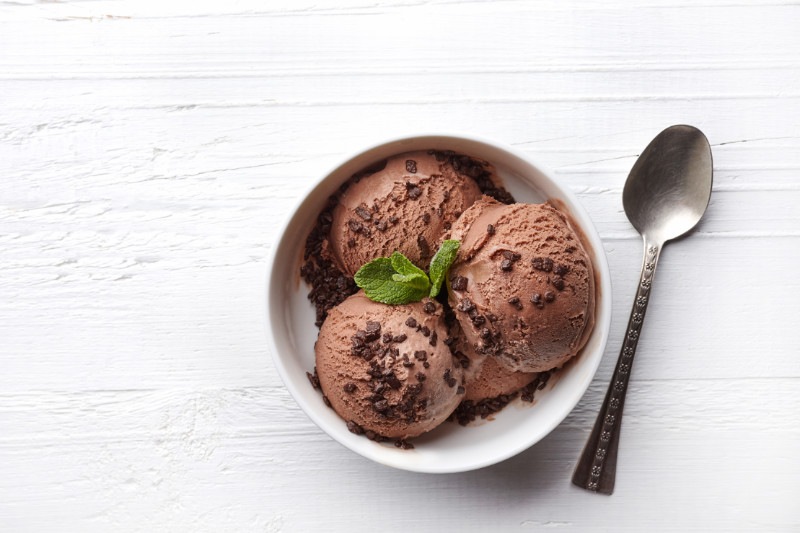ice-cream: (447, 199, 597, 373), (315, 292, 463, 438), (331, 151, 481, 280)
